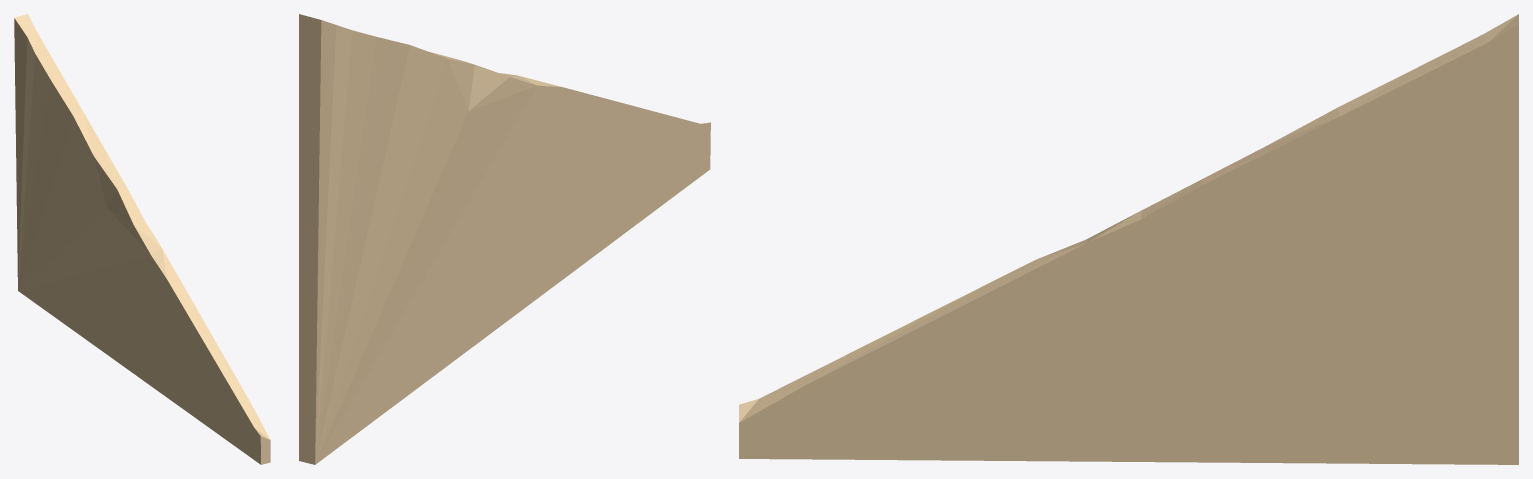
File: Stair_Lateral_low.fbx
3 renders of one model, left to right at view 1: azimuth 30°, elevation 25°; view 2: azimuth 150°, elevation 25°; view 3: azimuth 270°, elevation 25°, orthographic. The views are drawn at different scales.
Visible parts, largest first — view 1: Stair_Lateral_low; view 2: Stair_Lateral_low; view 3: Stair_Lateral_low.
Part boxes in pixels (bbox=[...]): Stair_Lateral_low: bbox=[14, 14, 270, 464]; Stair_Lateral_low: bbox=[299, 14, 710, 464]; Stair_Lateral_low: bbox=[739, 14, 1518, 464].
Bounding box in the file's own units: 0.1343 × 2.57 × 4.12.
